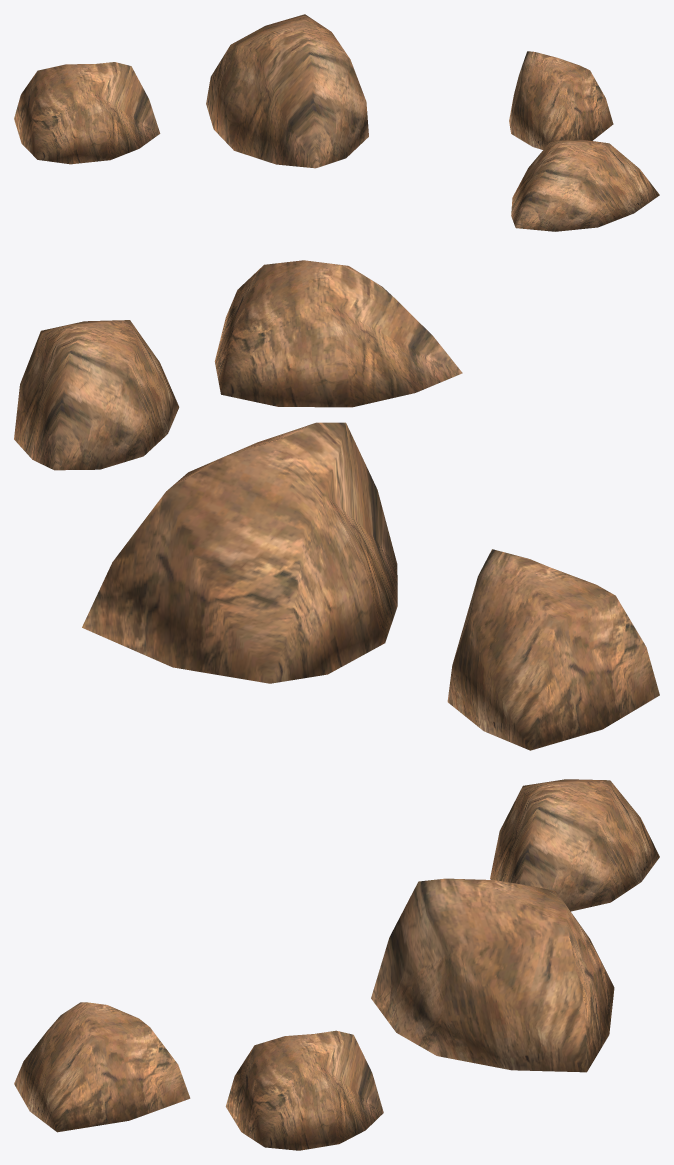
File: rock_tatt_bensmesa_pebbles_l0.fbx
3 views of the same model, one above another, from view 1: azimuth 30°, elevation 25°; view 2: azimuth 150°, elevation 25°; view 3: azimuth 270°, elevation 25° (orthographic). The views are drawn at different scales.
Visible parts, largest first — view 1: mesh_node; view 2: mesh_node; view 3: mesh_node.
Boxes of the visible parts, <box> form: mesh_node: <box>14,14,659,231</box>; mesh_node: <box>14,260,659,750</box>; mesh_node: <box>14,779,659,1150</box>.
Bounding box in the file's own units: 0.8528 × 0.1924 × 0.7689.
